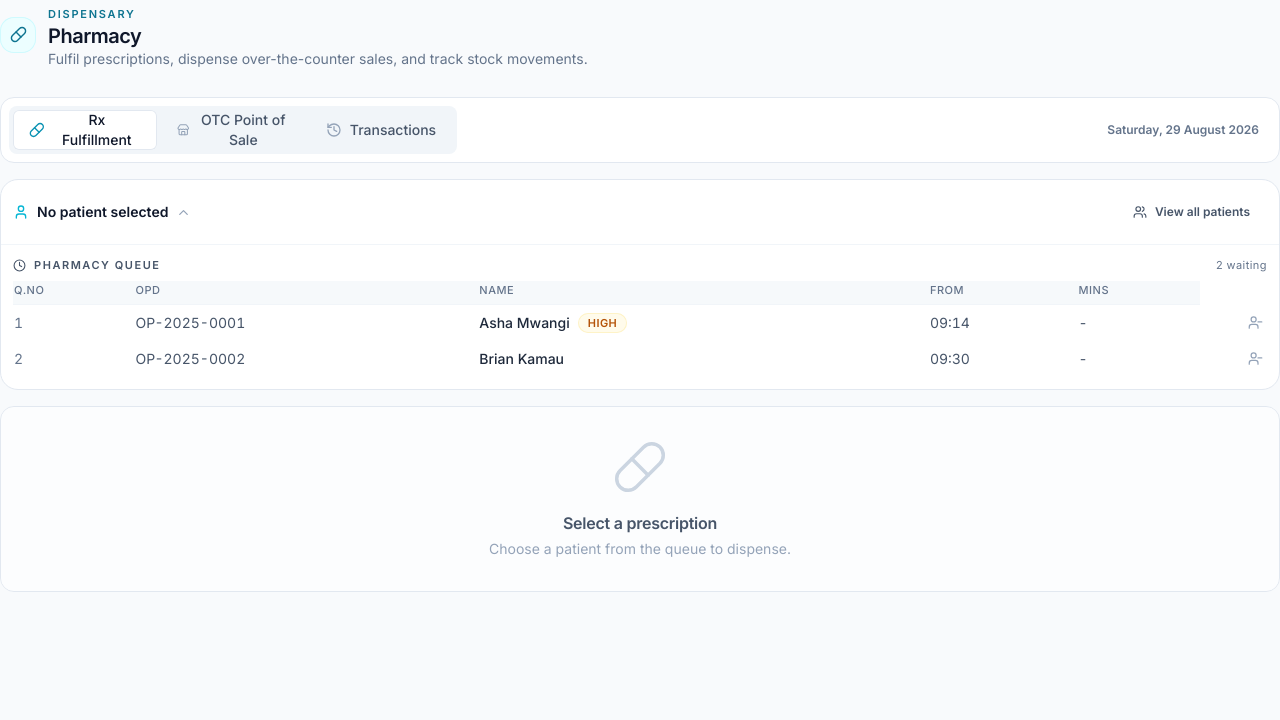
Scenario: Pharmacy: tab navigation › renders with Rx tab active by default and switches to OTC when clicked
Step 1. Click the tab "OTC Point of Sale" → x=233, y=130, box [161,110,305,150]
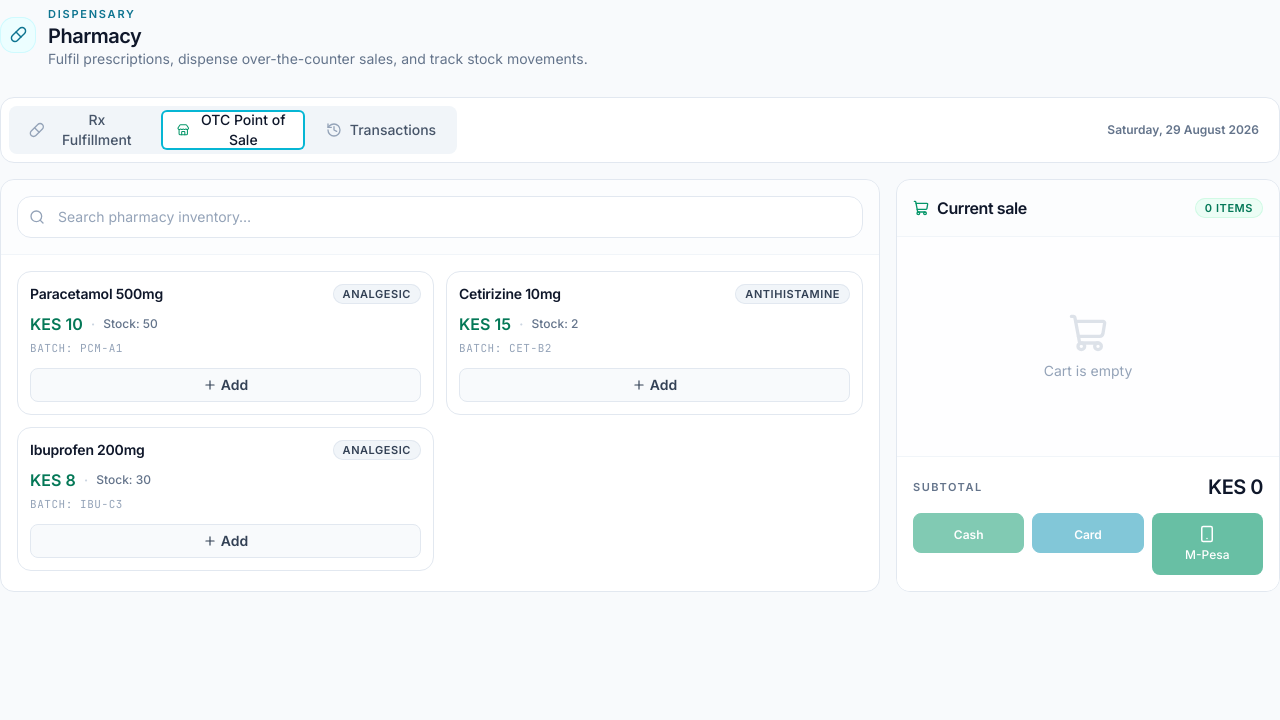
Expected: the field with placeholder "Search pharmacy inventory…" is shown, [17,196,863,238]
